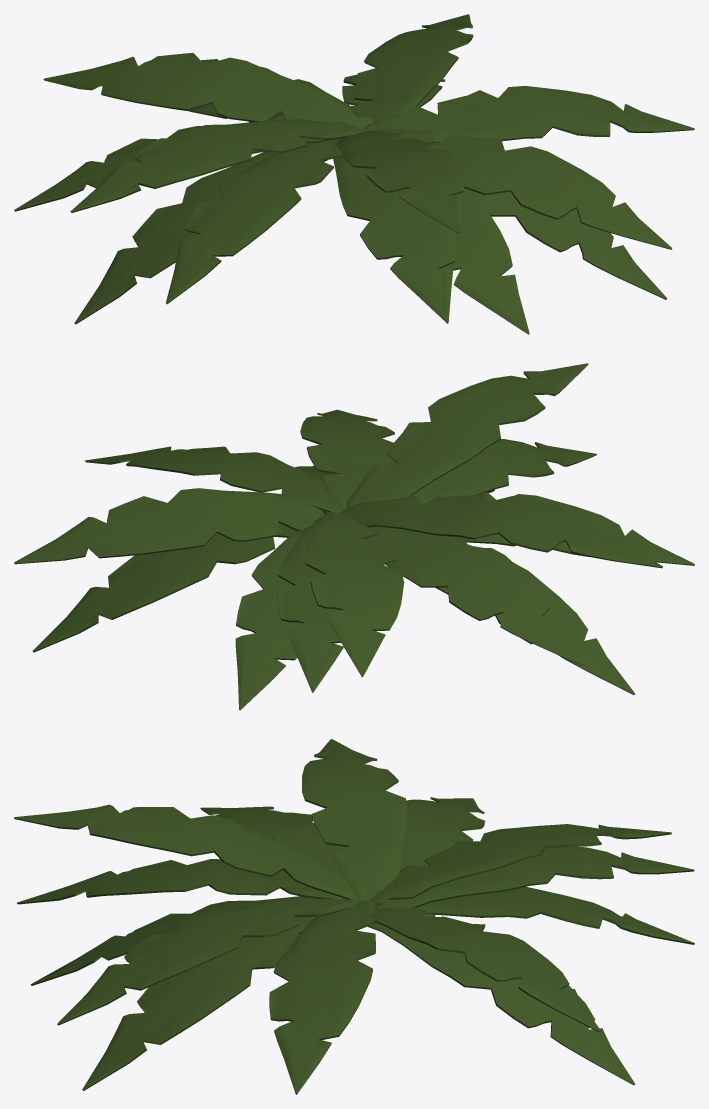
The model's file is single_bush.fbx.
3 views of the same model, one above another, from view 1: azimuth 30°, elevation 25°; view 2: azimuth 150°, elevation 25°; view 3: azimuth 270°, elevation 25° (orthographic). The views are drawn at different scales.
Visible parts, largest first — view 1: polySurface29_polySurface29; view 2: polySurface29_polySurface29; view 3: polySurface29_polySurface29.
Boxes of the visible parts, x1,y1,x2,y2 form: polySurface29_polySurface29: (14, 14, 694, 334); polySurface29_polySurface29: (14, 363, 694, 710); polySurface29_polySurface29: (14, 739, 694, 1094).
Bounding box in the file's own units: 1009 × 271 × 963.
